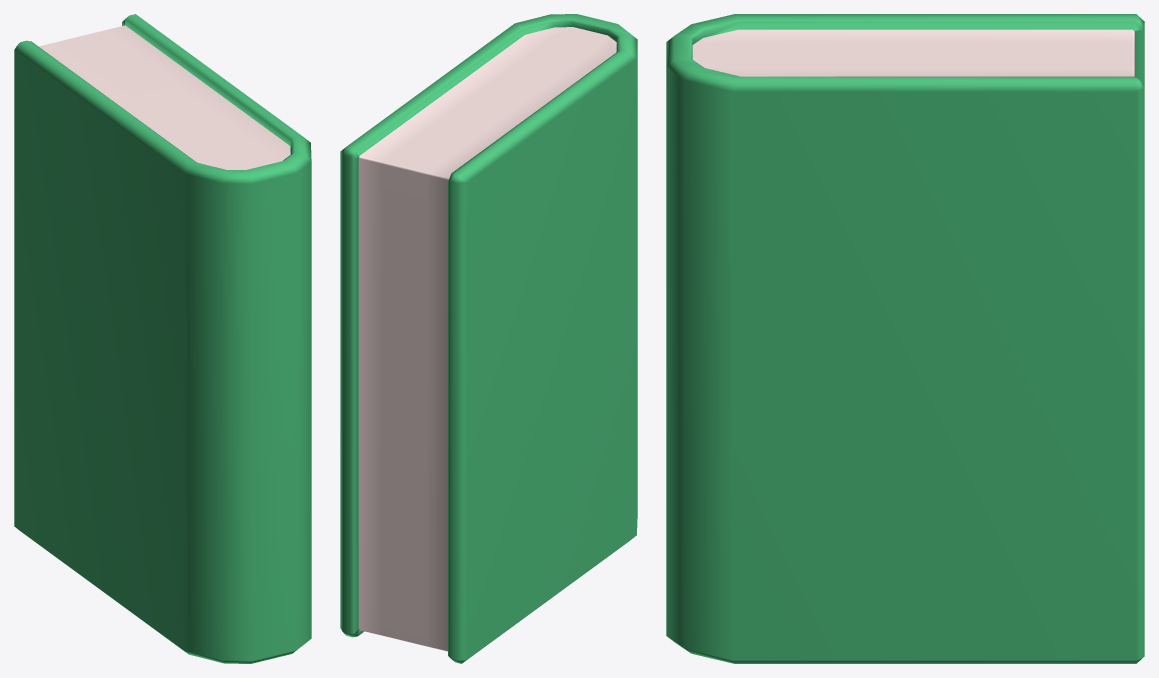
The model's file is Store_7_Book_3.glb.
3 views of the same model, side by side, from view 1: azimuth 30°, elevation 25°; view 2: azimuth 150°, elevation 25°; view 3: azimuth 270°, elevation 25° (orthographic). The views are drawn at different scales.
Visible parts, largest first — view 1: Store_7_Book_3; view 2: Store_7_Book_3; view 3: Store_7_Book_3.
Boxes of the visible parts, <box> form: Store_7_Book_3: <box>14,14,311,663</box>; Store_7_Book_3: <box>340,14,637,663</box>; Store_7_Book_3: <box>666,14,1144,663</box>.
Bounding box in the file's own units: 0.1558 × 0.5728 × 0.4257.
Materials: 1 (1 with a texture image).
